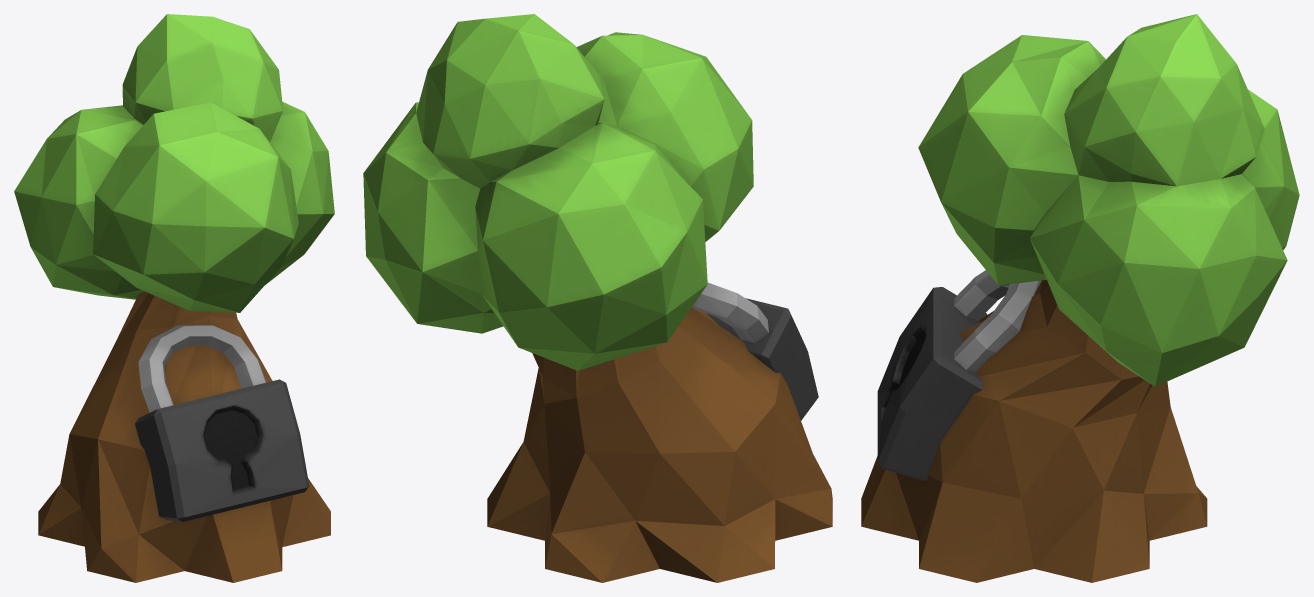
The model's file is NiveauPrairie_Ferme.FBX.
3 renders of one model, left to right at view 1: azimuth 30°, elevation 25°; view 2: azimuth 150°, elevation 25°; view 3: azimuth 270°, elevation 25°, orthographic. The views are drawn at different scales.
Visible parts, largest first — view 1: NiveauPrairie_Ferme; view 2: NiveauPrairie_Ferme; view 3: NiveauPrairie_Ferme.
Boxes of the visible parts, x1,y1,x2,y2 form: NiveauPrairie_Ferme: [14, 14, 334, 582]; NiveauPrairie_Ferme: [363, 14, 832, 582]; NiveauPrairie_Ferme: [861, 14, 1299, 582].
Bounding box in the file's own units: 3.18 × 4.38 × 3.29.
